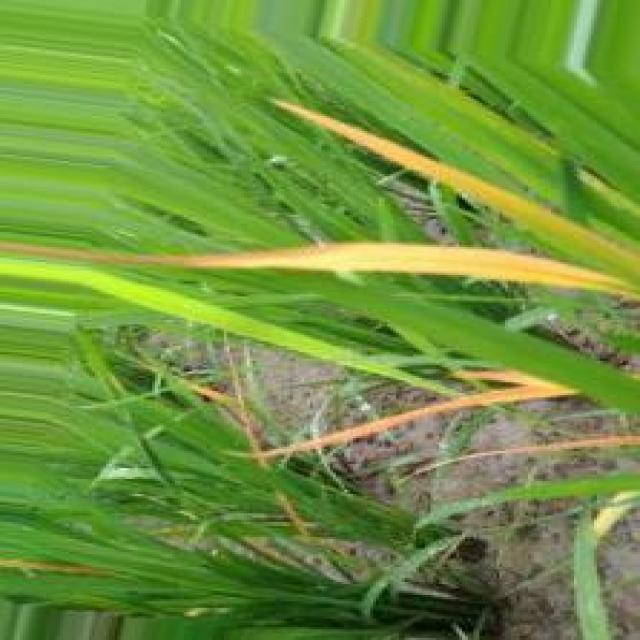Rice Tungro: (274, 102, 638, 276), (0, 242, 636, 298), (256, 370, 578, 459), (409, 437, 640, 478)
